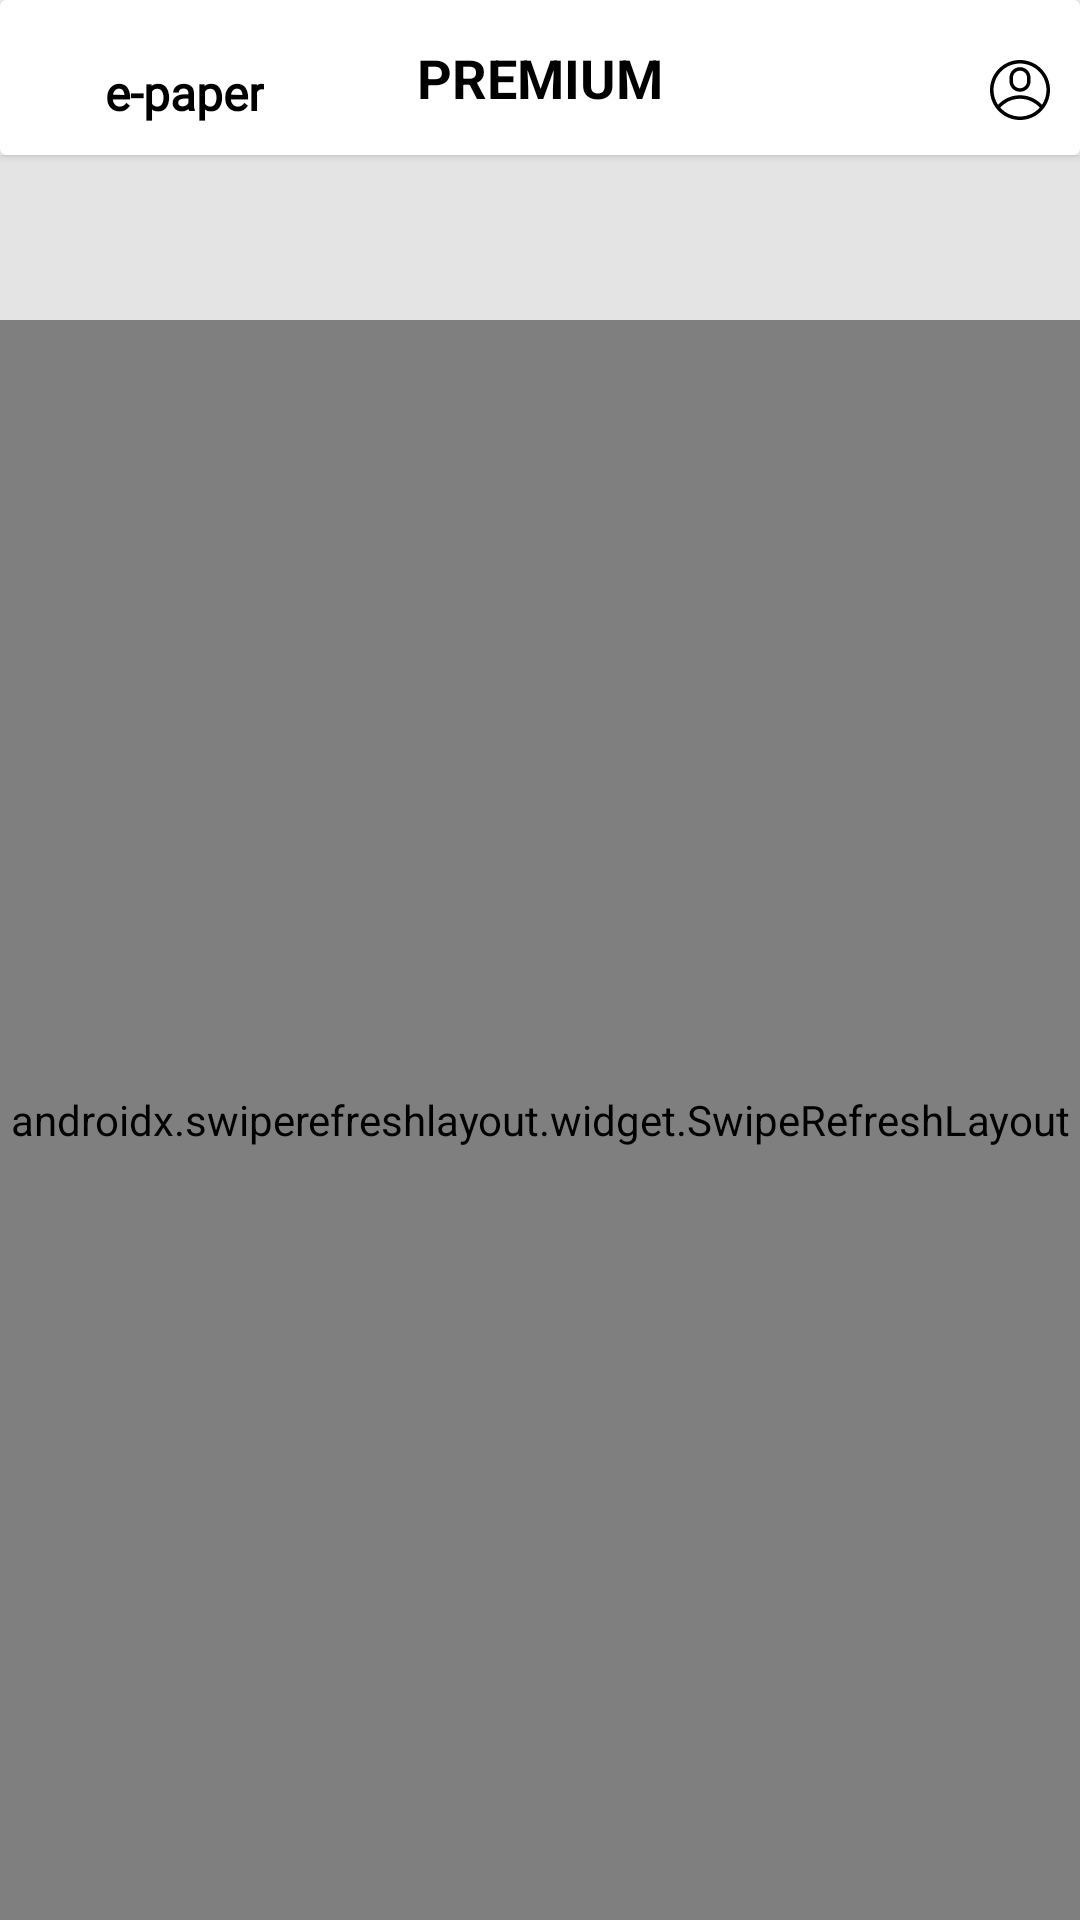

Screen size 1080 × 1920. Icon name, then its box in pixels as bbox=(x1, y1, x2, y2):
account: bbox=(990, 60, 1050, 120)
